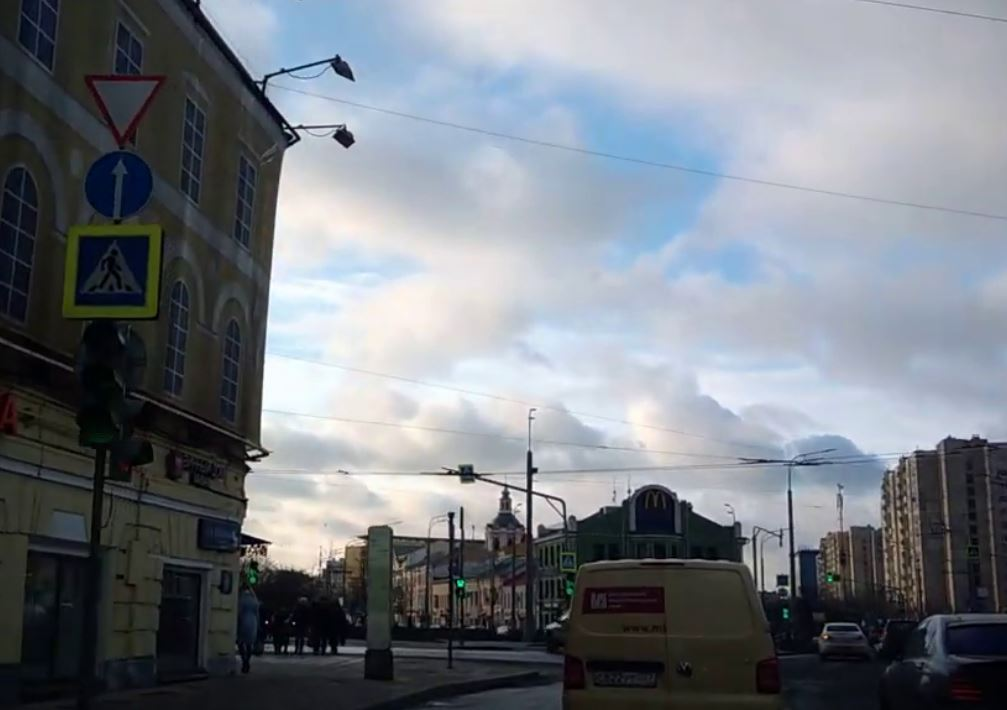Yaya Gecidi: (78, 239, 149, 309)
Yol Ver: (78, 72, 160, 151)
